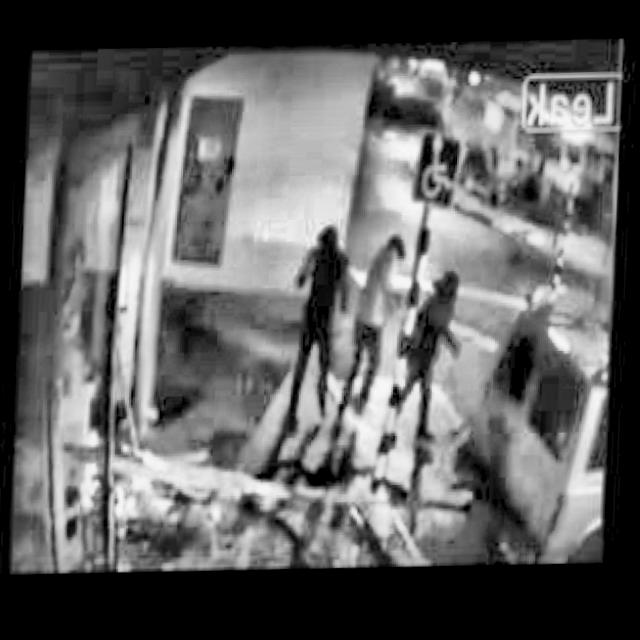burglary: (13, 213, 612, 584)
